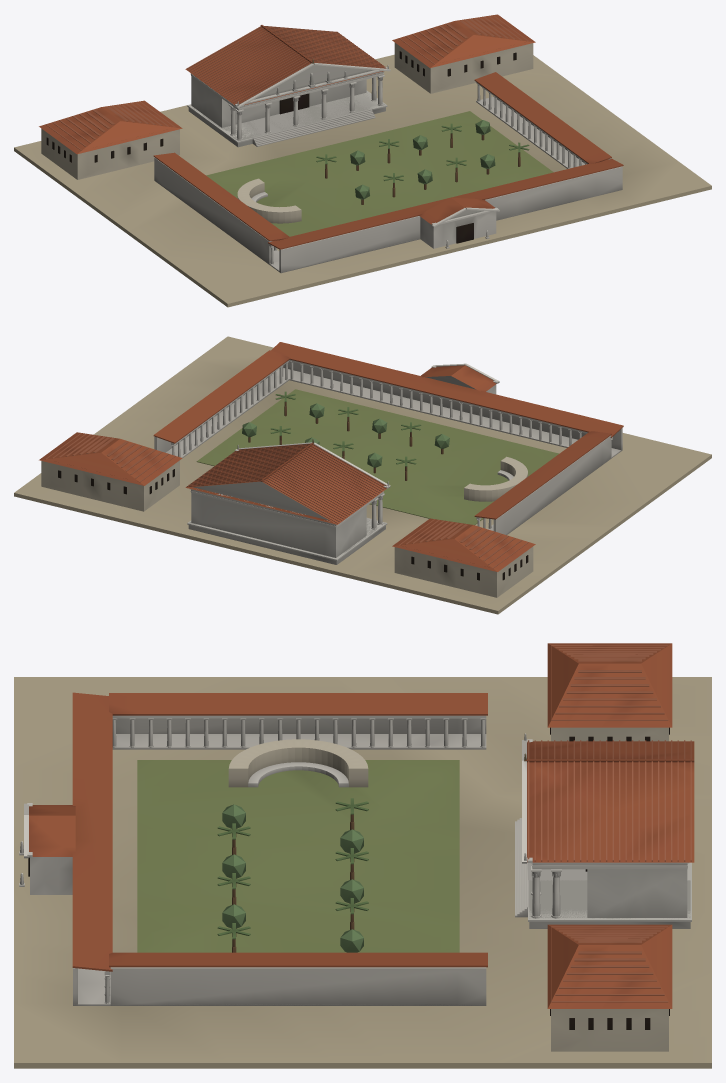
File: museum.glb
3 renders of one model, top to bottom at view 1: azimuth 30°, elevation 25°; view 2: azimuth 150°, elevation 25°; view 3: azimuth 270°, elevation 25°, orthographic. The views are drawn at different scales.
Visible parts, largest first — view 1: p0_court, p1_halls, p2_roofs; view 2: p0_court, p1_halls, p2_roofs; view 3: p0_court, p1_halls, p2_roofs.
Part boxes in pixels (box(x1,y1,x2,y2)): p0_court: box(14, 54, 711, 307); p1_halls: box(41, 25, 533, 223); p2_roofs: box(39, 14, 535, 248); p0_court: box(14, 336, 711, 614); p1_halls: box(41, 439, 533, 597); p2_roofs: box(39, 363, 535, 571); p0_court: box(14, 677, 711, 1068); p1_halls: box(228, 727, 694, 1051); p2_roofs: box(19, 643, 672, 1008).
Size of the model in its own units: 170 by 25.11 by 130.
